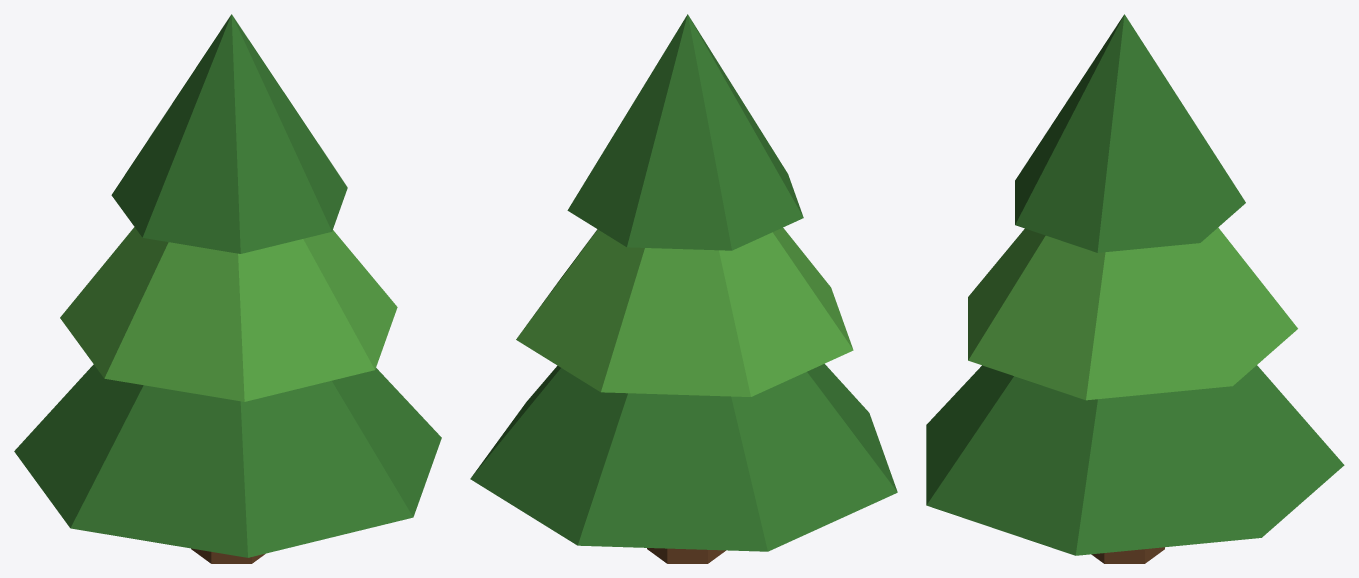
Rendered from tree_pine.fbx.
The picture shows the model from 3 angles, left to right: view 1: azimuth 30°, elevation 25°; view 2: azimuth 150°, elevation 25°; view 3: azimuth 270°, elevation 25°; orthographic projection.
Visible parts, largest first — view 1: tree_pine; view 2: tree_pine; view 3: tree_pine.
Boxes of the visible parts, <box> form: tree_pine: <box>14,14,441,563</box>; tree_pine: <box>470,14,897,563</box>; tree_pine: <box>926,14,1344,563</box>.
Size of the model in its own units: 0.3705 by 0.51 by 0.3612.
